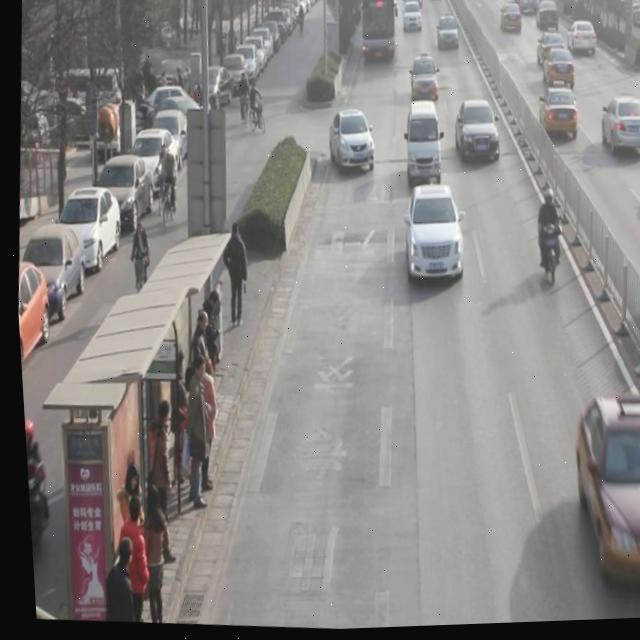car: (559, 393, 640, 591), (397, 185, 465, 288), (450, 100, 501, 168), (324, 111, 376, 175), (594, 98, 640, 164), (534, 80, 578, 142), (539, 45, 577, 92), (406, 57, 439, 104), (564, 21, 597, 57), (534, 31, 566, 68), (535, 1, 560, 36), (436, 17, 460, 52), (499, 3, 523, 35), (634, 241, 640, 353), (401, 3, 423, 33)
truck: (401, 102, 444, 188)
van: (356, 0, 398, 64)
